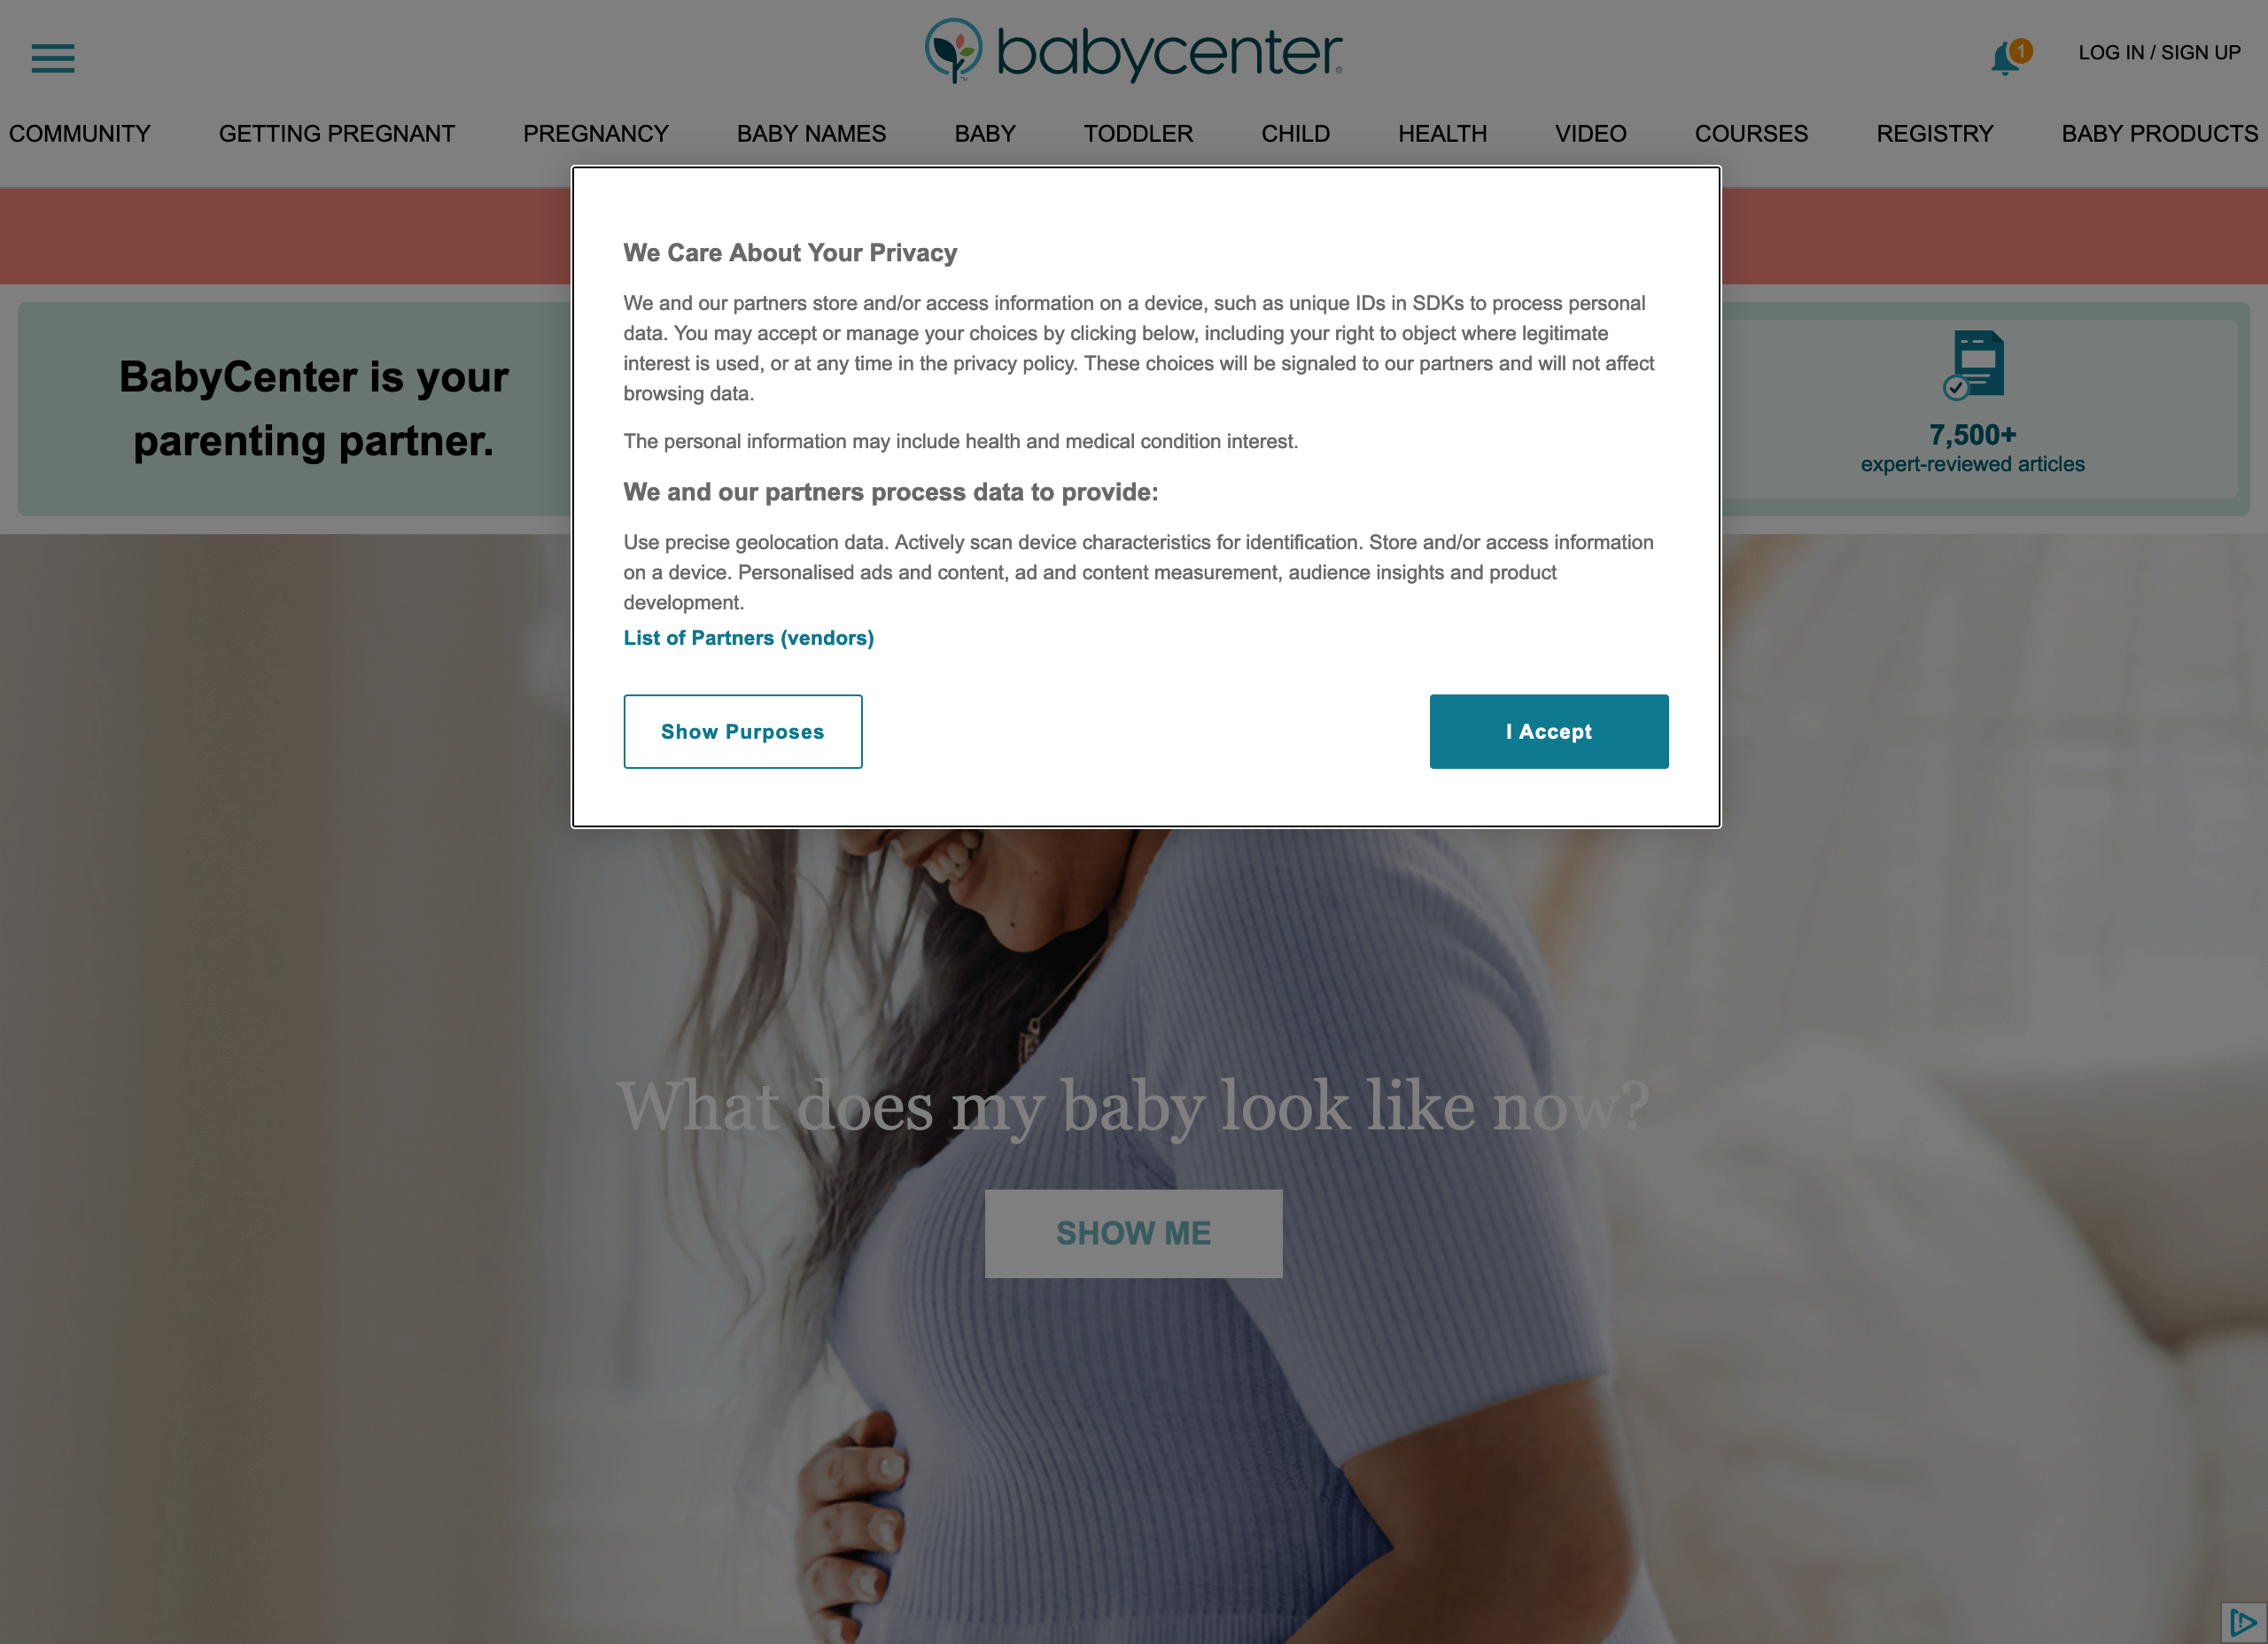Login: (2071, 33, 2148, 65)
